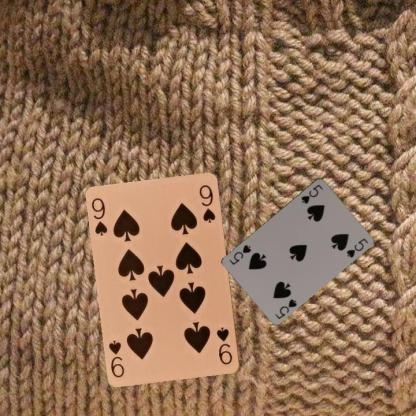5s: (273, 296, 298, 320), (299, 182, 324, 205)
9s: (89, 196, 109, 238), (214, 325, 234, 366)
